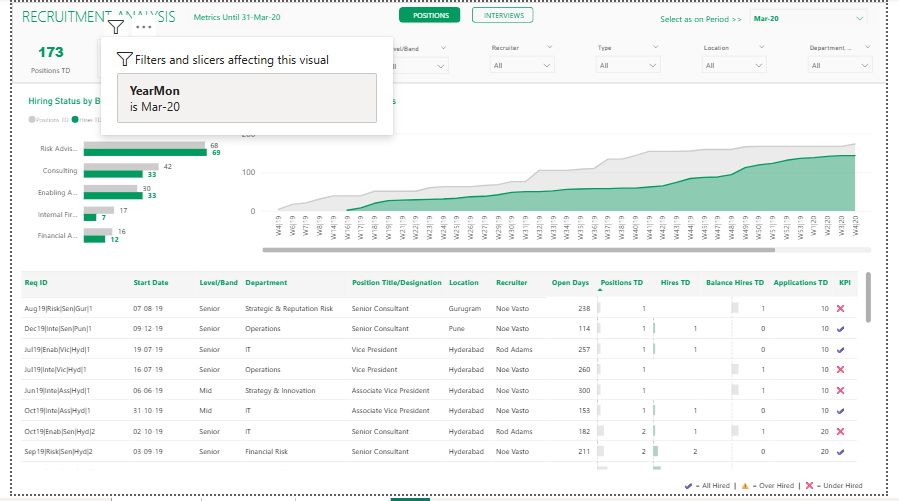

What the dashboard file says about the page in this screenshot:
{"tool":"powerbi","page":{"name":"Positions","canvas":[1280,720],"ordinal":0},"visuals":[{"type":"textbox","box":[0,0,1280,118.8],"z":0},{"type":"card","fields":{"Values":["Measures_.TD Positions"]},"box":[16.7,54.2,80.9,57],"z":1000},{"type":"card","fields":{"Values":["Measures_.TD Applications"]},"box":[124.7,54,87.8,56.7],"z":2000},{"type":"card","fields":{"Values":["Measures_.TD Hires"]},"box":[239.5,54,61.4,56.7],"z":3000},{"type":"slicer","fields":{"Values":["Position.Department","Position.Position Title/Designation"]},"box":[1155.1,56.3,115,50],"z":4000},{"type":"slicer","fields":{"Values":["Position.Location"]},"box":[999.7,56.3,115,50],"z":5000},{"type":"slicer","fields":{"Values":["Position.Type"]},"box":[844.2,56.3,115,50],"z":6000},{"type":"pivotTable","fields":{"Rows":["Position.Req ID","Position.Req Start Date","Position.Level/Band","Position.Department","Position.Position Title/Designation","Position.Location","Position.Recruiter"],"Values":["Measures_.Open Days","Measures_.TD Positions","Measures_.Hires TD","Measures_.Balance Positions","Measures_.TD Applications","Measures_.KPI"]},"box":[9.1,388.9,1254.2,299.7],"z":7000},{"type":"card","fields":{"Values":["Measures_.% Hiring Completed"]},"box":[328,55,118.9,57],"z":8000},{"type":"slicer","fields":{"Values":["Position.Level/Band"]},"box":[533.6,56.7,114.8,49.5],"z":9000},{"type":"textbox","box":[932,10.1,153.8,31.1],"z":10000},{"type":"clusteredBarChart","title":"Hiring Status by Business","fields":{"Category":["Position.Business"],"Y":["Measures_.Positions TD","Measures_.Hires TD"]},"box":[19.4,138.3,291.3,233.8],"z":11000},{"type":"areaChart","title":"Positions and Hiring Timeline in weeks","fields":{"Category":["Calendar.Custom"],"Y":["Measures_.TD Positions","Measures_.TD Hires"]},"box":[331.3,138,932.2,234.7],"z":12000},{"type":"card","fields":{"Values":["Measures_.Time Period"]},"box":[254.8,10.1,146,25.6],"z":13000},{"type":"slicer","title":"Select Period","fields":{"Values":["Disconnected Cal.YearMon","Disconnected Cal.Week"]},"box":[1070.1,0,192.4,33],"z":16000},{"type":"basicShape","box":[486.5,50.9,11.6,70.2],"z":18000},{"type":"actionButton","box":[566.2,7.8,90,23],"z":19000},{"type":"actionButton","title":"Button","box":[673.4,7.8,90,23],"z":20000},{"type":"textbox","box":[971.2,691.6,284.1,28.2],"z":23000},{"type":"slicer","fields":{"Values":["Position.Recruiter"]},"box":[688.8,56.3,115,50],"z":24000}]}

Visuals, with their boxes in screenshot pixels (x1, y1, x2, y2), scaled from the page's 1280x720 canvas onto the 899x501 screenshot:
textbox: {"left": 0, "top": 0, "right": 898, "bottom": 83}
card - Measures_.TD Positions: {"left": 12, "top": 38, "right": 69, "bottom": 77}
card - Measures_.TD Applications: {"left": 88, "top": 38, "right": 149, "bottom": 77}
card - Measures_.TD Hires: {"left": 168, "top": 38, "right": 211, "bottom": 77}
slicer - Position.Department x Position.Position Title/Designation: {"left": 811, "top": 39, "right": 892, "bottom": 74}
slicer - Position.Location: {"left": 702, "top": 39, "right": 783, "bottom": 74}
slicer - Position.Type: {"left": 593, "top": 39, "right": 674, "bottom": 74}
pivotTable - Position.Req ID x Position.Req Start Date: {"left": 6, "top": 271, "right": 887, "bottom": 479}
card - Measures_.% Hiring Completed: {"left": 230, "top": 38, "right": 314, "bottom": 78}
slicer - Position.Level/Band: {"left": 375, "top": 39, "right": 455, "bottom": 74}
textbox: {"left": 655, "top": 7, "right": 763, "bottom": 29}
"Hiring Status by Business" clusteredBarChart: {"left": 14, "top": 96, "right": 218, "bottom": 259}
"Positions and Hiring Timeline in weeks" areaChart: {"left": 233, "top": 96, "right": 887, "bottom": 259}
card - Measures_.Time Period: {"left": 179, "top": 7, "right": 281, "bottom": 25}
"Select Period" slicer: {"left": 752, "top": 0, "right": 887, "bottom": 23}
basicShape: {"left": 342, "top": 35, "right": 350, "bottom": 84}
actionButton: {"left": 398, "top": 5, "right": 461, "bottom": 21}
"Button" actionButton: {"left": 473, "top": 5, "right": 536, "bottom": 21}
textbox: {"left": 682, "top": 481, "right": 882, "bottom": 500}
slicer - Position.Recruiter: {"left": 484, "top": 39, "right": 565, "bottom": 74}
